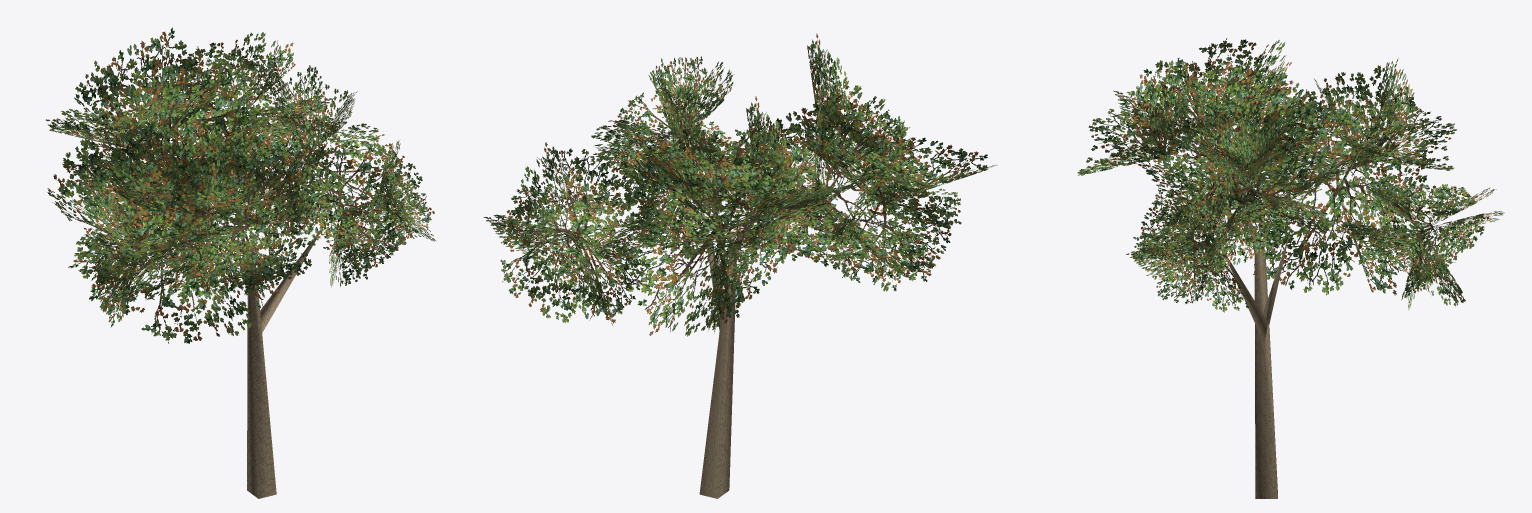
Rendered from decd_mapletreeleaves_a2_l2.fbx.
3 renders of one model, left to right at view 1: azimuth 30°, elevation 25°; view 2: azimuth 150°, elevation 25°; view 3: azimuth 270°, elevation 25°, orthographic. The views are drawn at different scales.
Visible parts, largest first — view 1: mesh_node; view 2: mesh_node; view 3: mesh_node.
Boxes of the visible parts, x1,y1,x2,y2 form: mesh_node: (45, 27, 435, 498); mesh_node: (483, 33, 996, 498); mesh_node: (1077, 38, 1504, 498).
Size of the model in its own units: 26.61 by 27.7 by 28.7.
2 materials, 2 textured.
